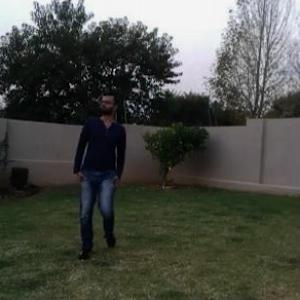follow: (69, 82, 130, 261)
